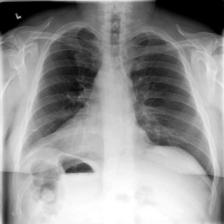normal: (16, 20, 222, 199)
